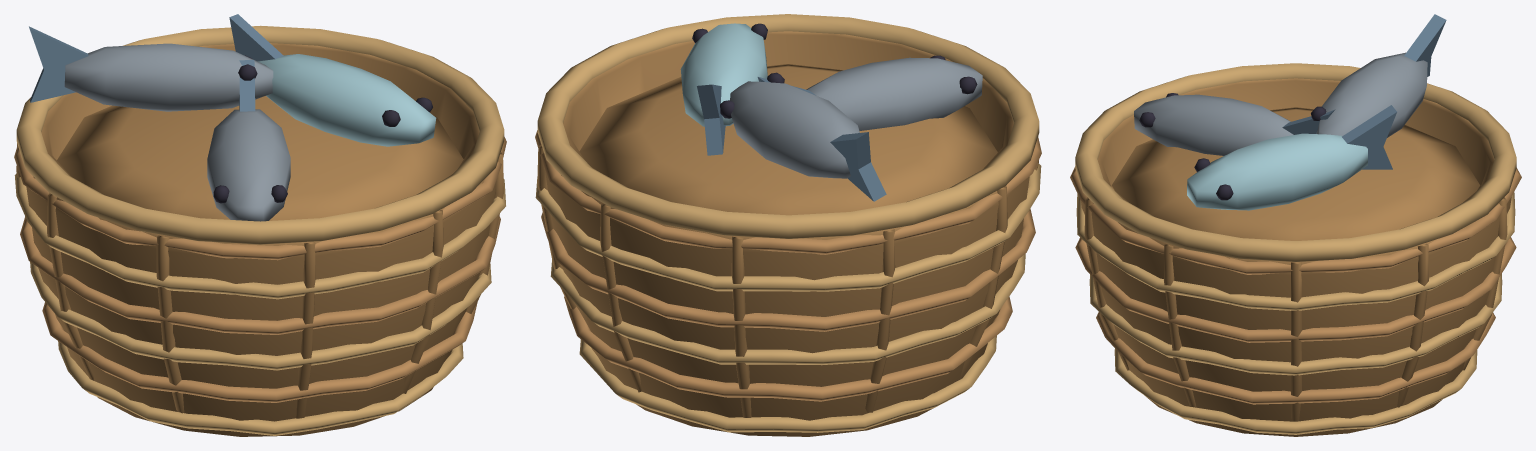
Rendered from fish_basket.glb.
3 views of the same model, side by side, from view 1: azimuth 30°, elevation 25°; view 2: azimuth 150°, elevation 25°; view 3: azimuth 270°, elevation 25° (orthographic). The views are drawn at different scales.
Parts seen in each view (by area): view 1: fish_basket; view 2: fish_basket; view 3: fish_basket.
Part boxes in pixels (x1,y1,x2,y2): fish_basket: (14,14,506,436); fish_basket: (535,14,1041,436); fish_basket: (1070,14,1521,436).
Bounding box in the file's own units: 0.5 × 0.35 × 0.5.
